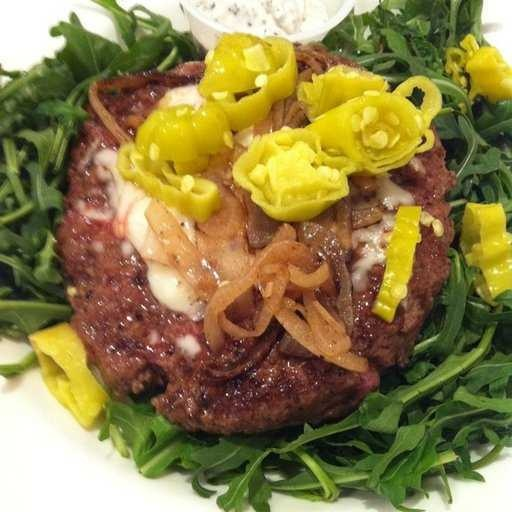hamburger: (66, 43, 446, 431)
